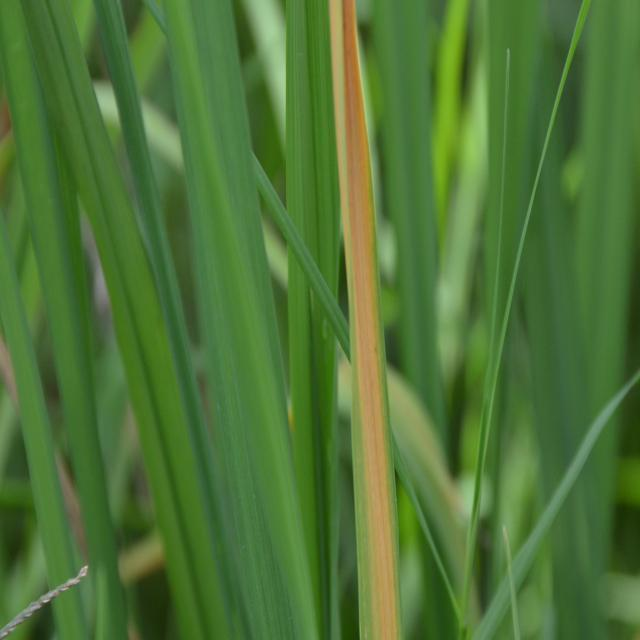Rice Tungro: (320, 10, 415, 640)
